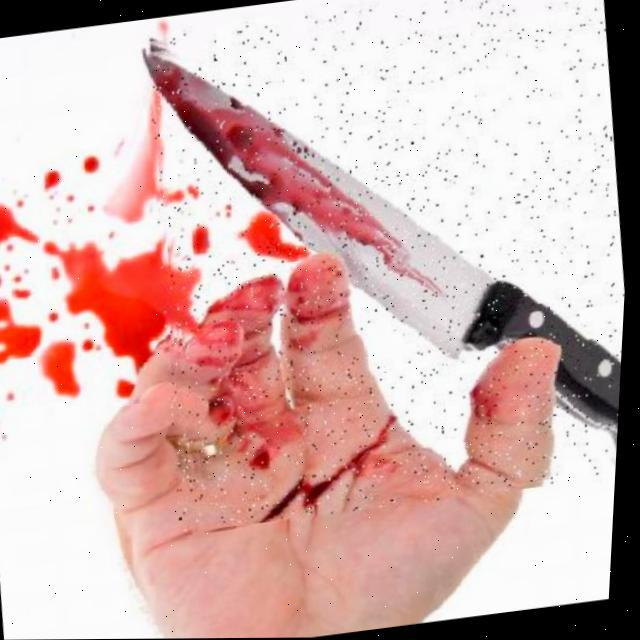knife: (124, 0, 640, 532)
